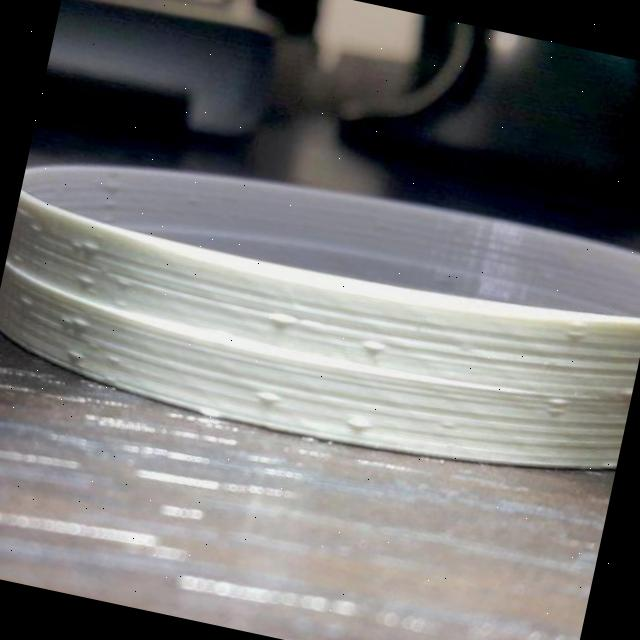blobs: (340, 406, 376, 437), (267, 306, 300, 336), (252, 380, 286, 408), (72, 263, 102, 293), (361, 336, 392, 362), (77, 237, 106, 264), (97, 176, 126, 200), (545, 393, 571, 418), (10, 285, 36, 310), (68, 309, 94, 332), (64, 341, 88, 364), (97, 194, 121, 217), (110, 272, 135, 293), (620, 384, 633, 405)
